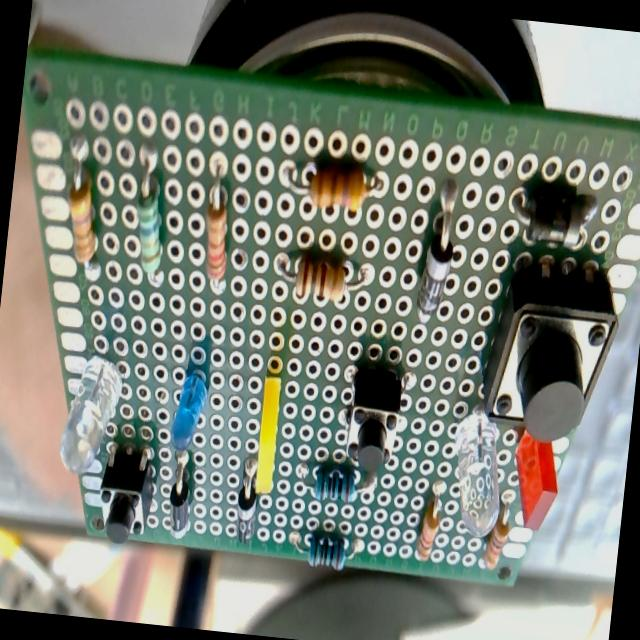diode: (414, 178, 463, 324), (509, 187, 599, 251), (164, 452, 196, 541), (232, 458, 262, 548)
led: (442, 403, 510, 539), (56, 351, 125, 479), (508, 428, 564, 534), (252, 371, 285, 495), (168, 369, 209, 454)
resistor: (127, 150, 175, 284), (282, 157, 385, 216), (274, 250, 369, 308), (198, 178, 238, 292), (62, 175, 104, 271), (288, 530, 359, 572), (310, 464, 359, 506), (482, 510, 510, 571), (414, 500, 442, 560)
switch: (476, 254, 622, 447), (341, 364, 406, 478), (94, 442, 158, 546)
